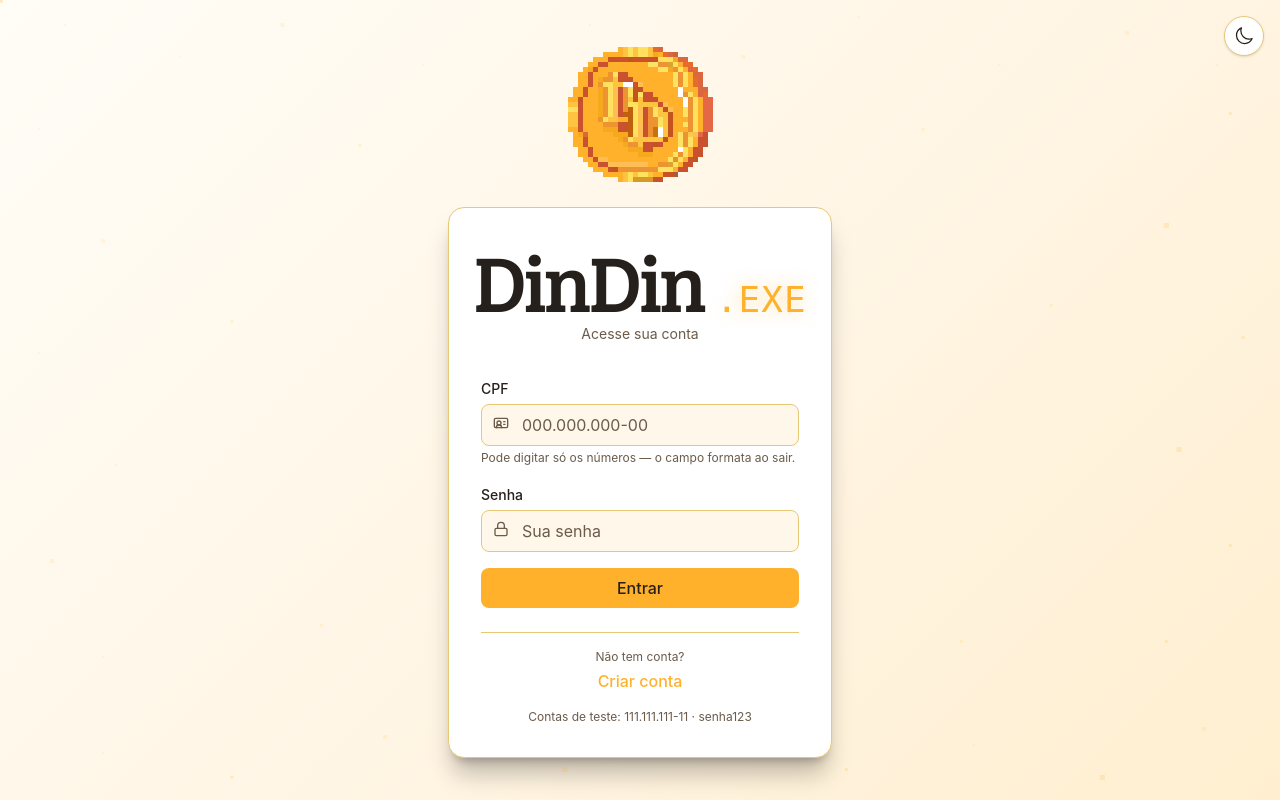
Test: LoginPage › mostra a mensagem de erro quando o login falha
In the field with placeholder "000.000.000-00": (640, 425) left=481, top=404, right=799, bottom=446, type "11122233344"
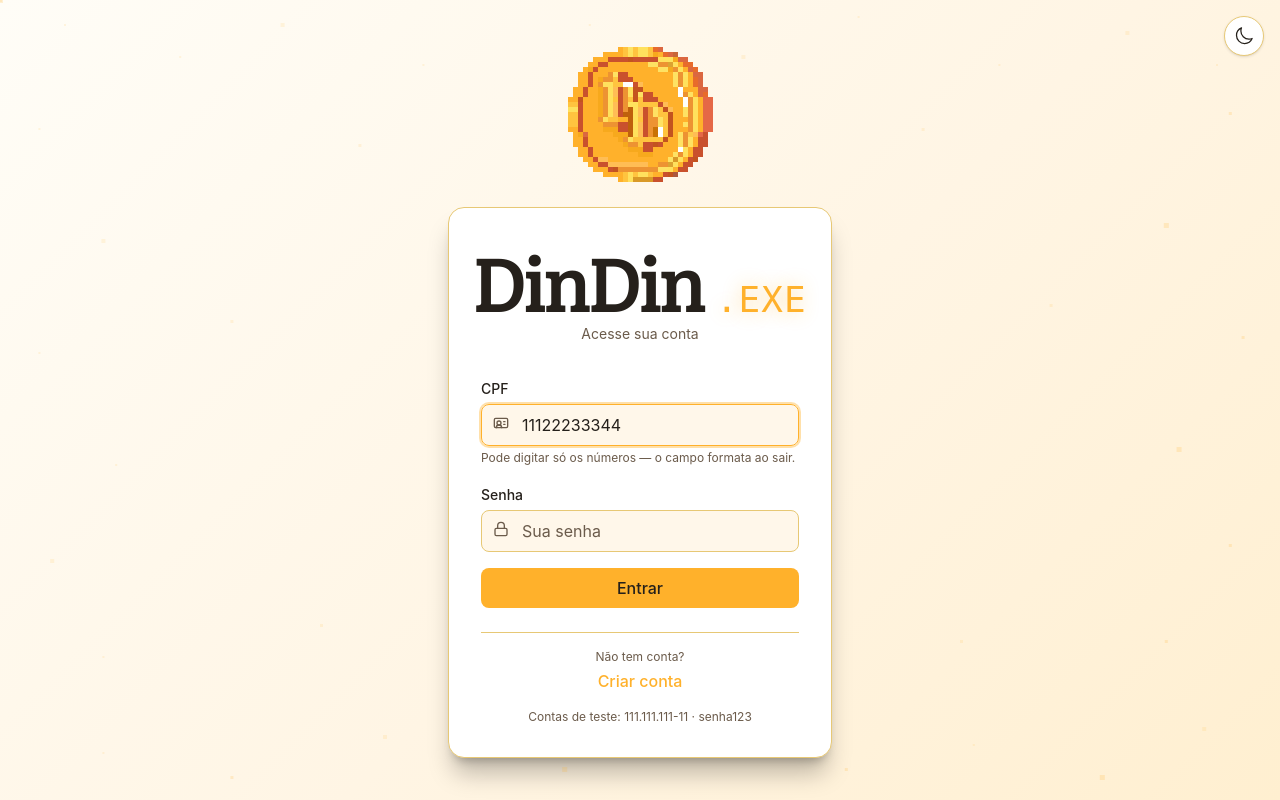
In the password field with placeholder "Sua senha": (640, 531) left=481, top=510, right=799, bottom=552, type "errada"
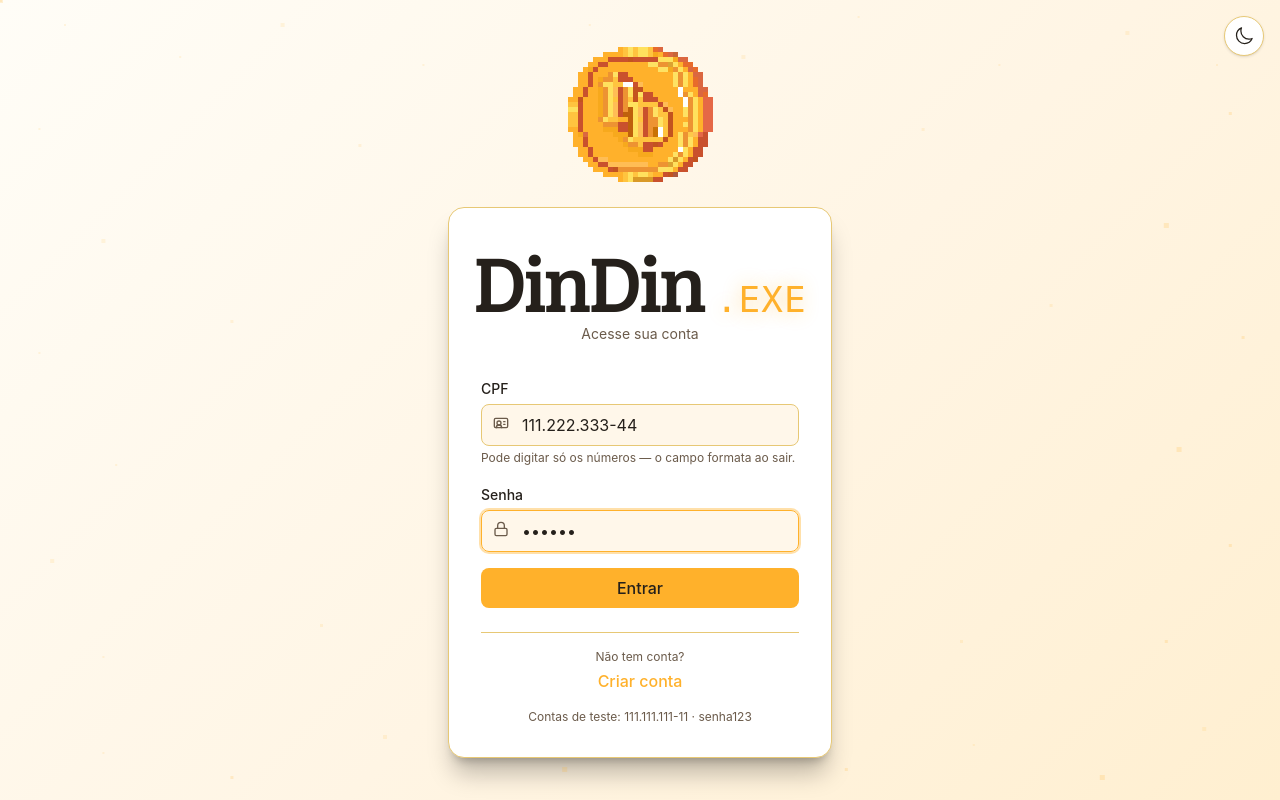
Click the button "Entrar": (640, 588) left=481, top=568, right=799, bottom=608
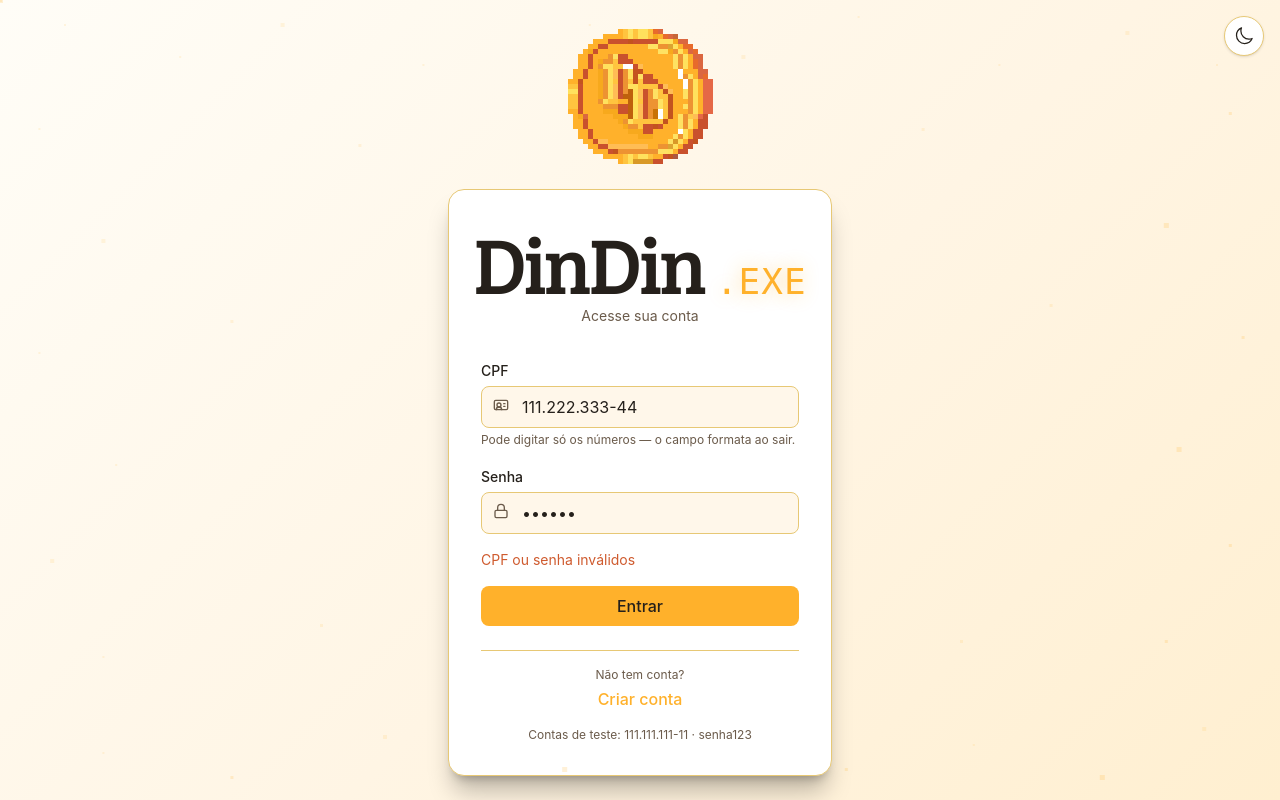
Check: the text "CPF ou senha inválidos" is shown, box left=481, top=551, right=635, bottom=568
